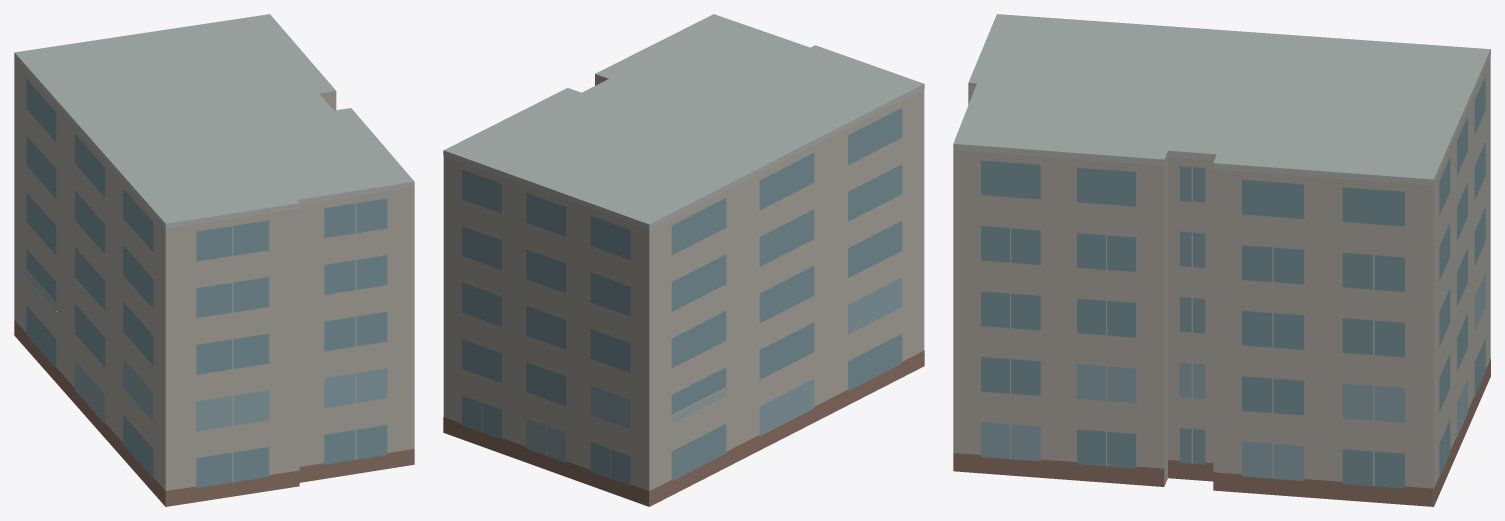
File: survey-upis-32669571.glb
The picture shows the model from 3 angles, left to right: view 1: azimuth 30°, elevation 25°; view 2: azimuth 150°, elevation 25°; view 3: azimuth 270°, elevation 25°; orthographic projection. The views are drawn at different scales.
Visible parts, largest first — view 1: survey-upis-32669571.tmp; view 2: survey-upis-32669571.tmp; view 3: survey-upis-32669571.tmp.
Boxes of the visible parts, x1,y1,x2,y2 form: survey-upis-32669571.tmp: (14, 14, 414, 506); survey-upis-32669571.tmp: (443, 14, 924, 506); survey-upis-32669571.tmp: (953, 14, 1490, 506).
Bounding box in the file's own units: 14.07 × 12.97 × 19.31.
